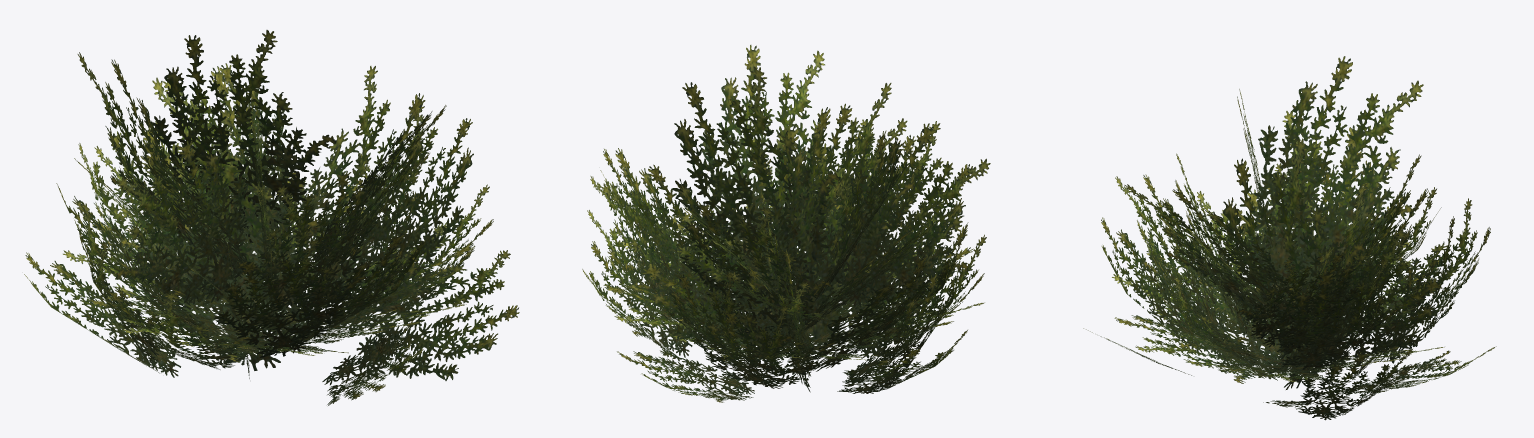
File: wm_灌木大灌木09.fbx
3 renders of one model, left to right at view 1: azimuth 30°, elevation 25°; view 2: azimuth 150°, elevation 25°; view 3: azimuth 270°, elevation 25°, orthographic. The views are drawn at different scales.
Visible parts, largest first — view 1: wm_灌木大灌木09; view 2: wm_灌木大灌木09; view 3: wm_灌木大灌木09.
Boxes of the visible parts, bbox=[...] form: wm_灌木大灌木09: bbox=[24, 30, 519, 405]; wm_灌木大灌木09: bbox=[582, 45, 990, 402]; wm_灌木大灌木09: bbox=[1083, 56, 1496, 420].
Size of the model in its own units: 258 by 207 by 255.
